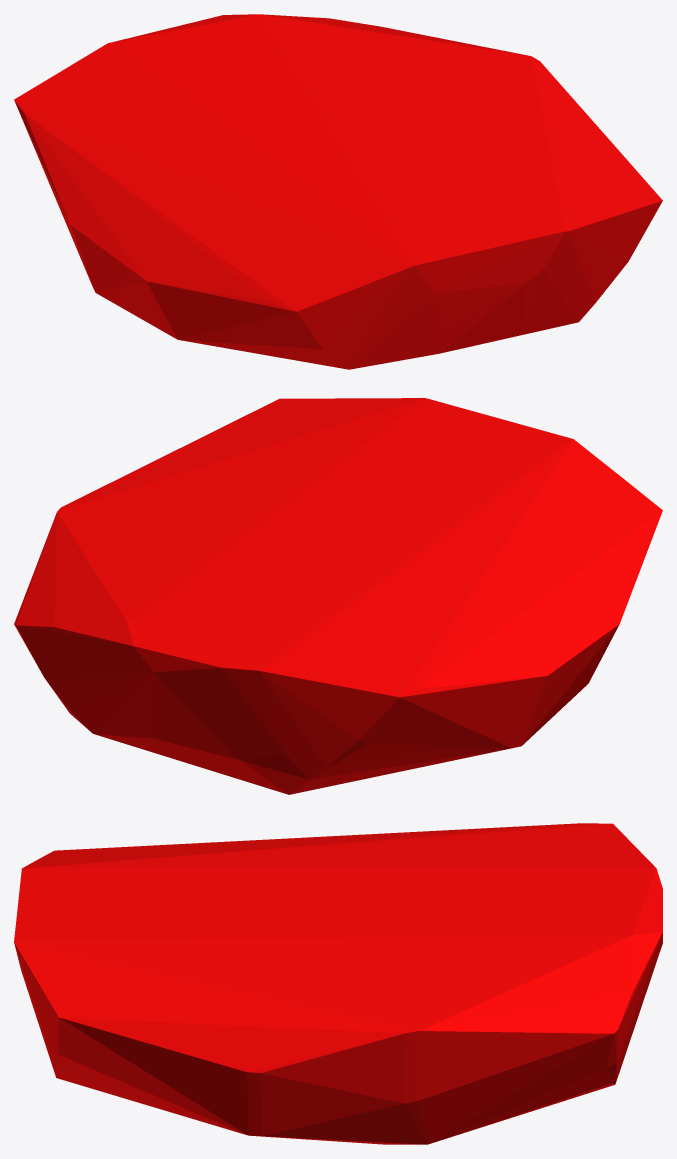
The model's file is wrist_pitch_0091_convex_hull_01.obj.
3 views of the same model, one above another, from view 1: azimuth 30°, elevation 25°; view 2: azimuth 150°, elevation 25°; view 3: azimuth 270°, elevation 25° (orthographic). The views are drawn at different scales.
Parts seen in each view (by area): view 1: wrist_pitch_0091_convex_hull_01; view 2: wrist_pitch_0091_convex_hull_01; view 3: wrist_pitch_0091_convex_hull_01.
Part boxes in pixels (<box>): wrist_pitch_0091_convex_hull_01: <box>14,14,662,369</box>; wrist_pitch_0091_convex_hull_01: <box>14,398,662,794</box>; wrist_pitch_0091_convex_hull_01: <box>14,823,662,1144</box>.
Size of the model in its own units: 0.0486 by 0.0139 by 0.0553.
